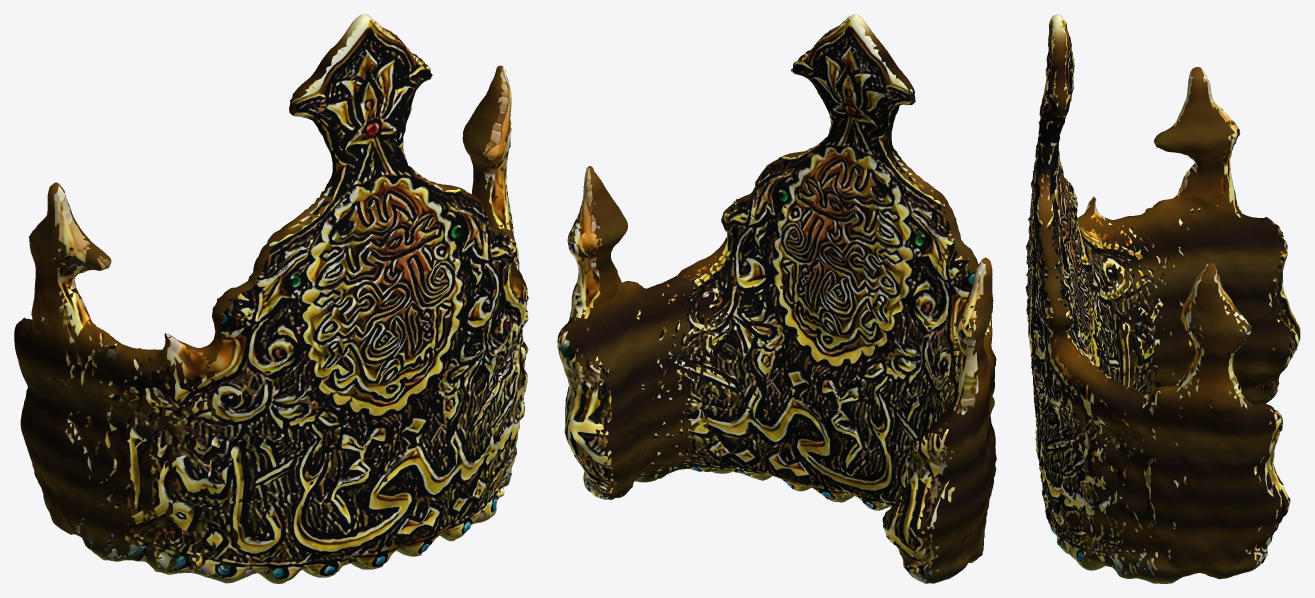
File: kfl-2234.glb
3 views of the same model, side by side, from view 1: azimuth 30°, elevation 25°; view 2: azimuth 150°, elevation 25°; view 3: azimuth 270°, elevation 25° (orthographic). The views are drawn at different scales.
Visible parts, largest first — view 1: kfl-2234; view 2: kfl-2234; view 3: kfl-2234.
Part boxes in pixels (left/top/right/bottom): kfl-2234: left=14, top=14, right=528, bottom=583; kfl-2234: left=557, top=14, right=996, bottom=583; kfl-2234: left=1025, top=14, right=1300, bottom=583.
Bounding box in the file's own units: 0.8775 × 0.992 × 0.4918.
Materials: 4 (4 with a texture image).
